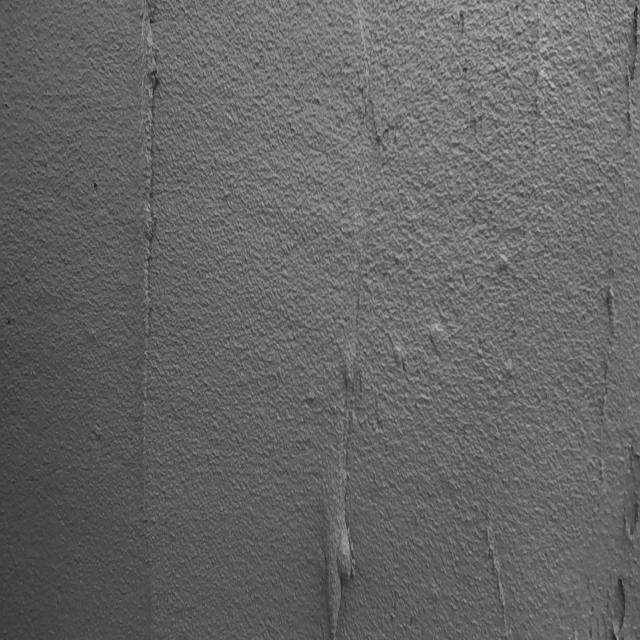trowels marks: (132, 4, 162, 544), (319, 339, 366, 639)
